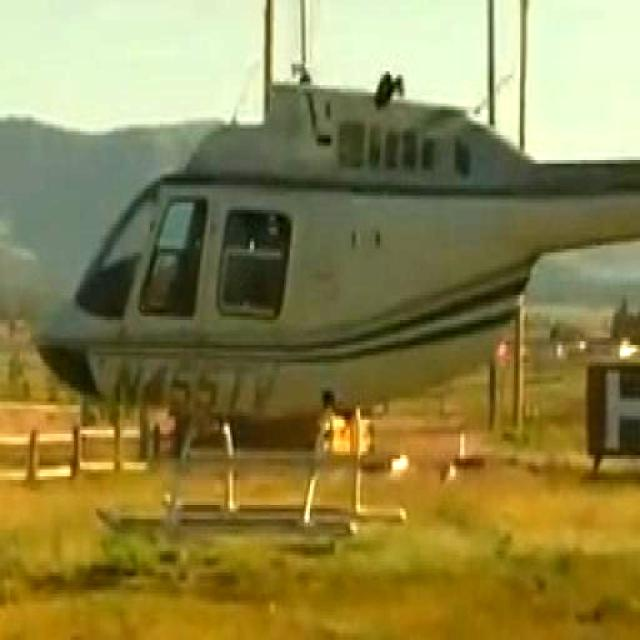drone: (0, 0, 640, 509)
